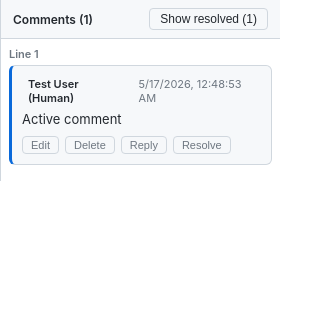
Test: 14.3 – CommentsPanel › 'Hide resolved' toggle hides resolved comments again
Click the button "Show resolved (1)". click: (209, 19)
box: [149,8,268,30]
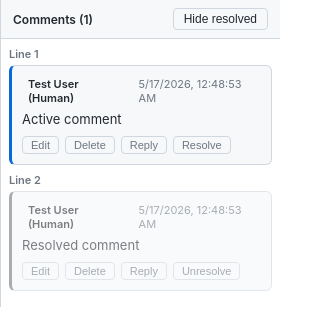
Expected: the text "Resolved comment" is shown, [22,237,139,253]
Click the button "Hide resolved". click: (220, 19)
box: [173,8,268,30]
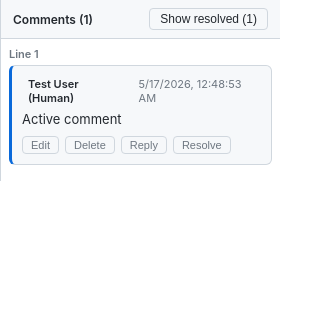
Expected: the button "Resolved comment" is gone
